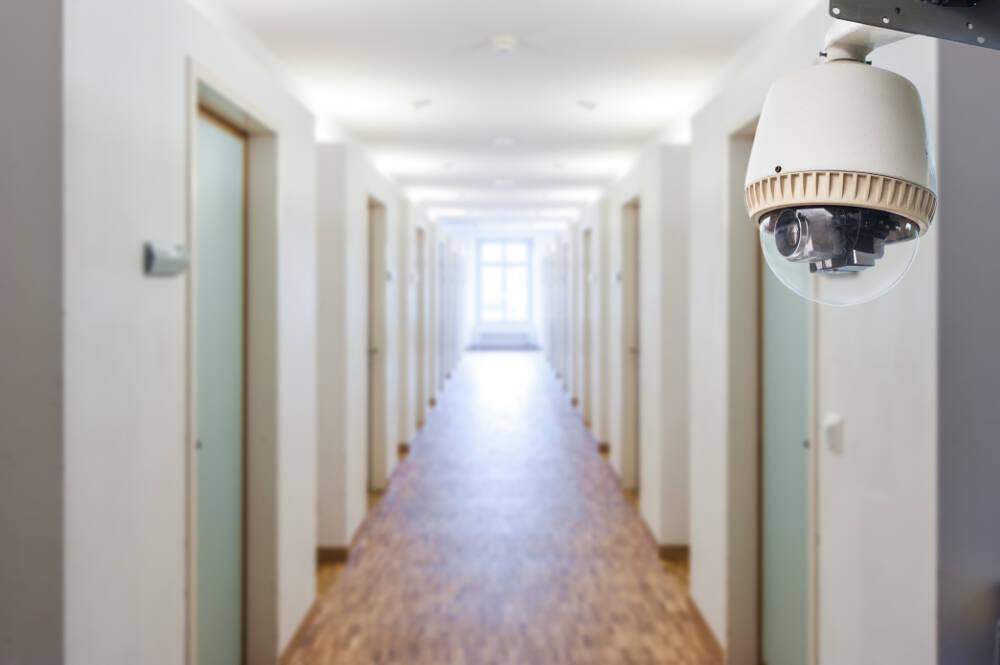CCTV: (746, 19, 939, 306)
